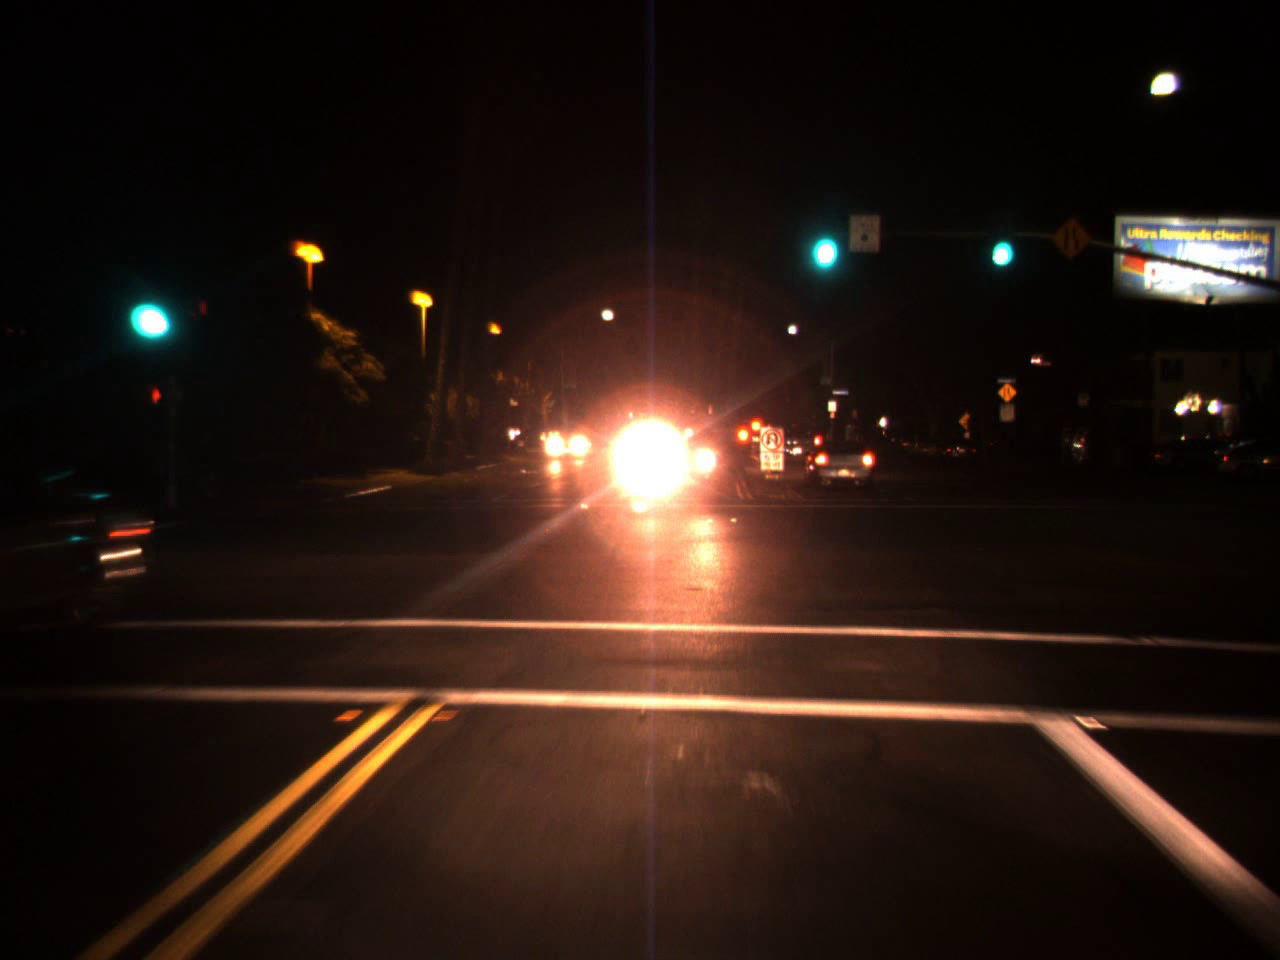go: (125, 266, 171, 350), (801, 195, 844, 282), (983, 210, 1017, 276)
